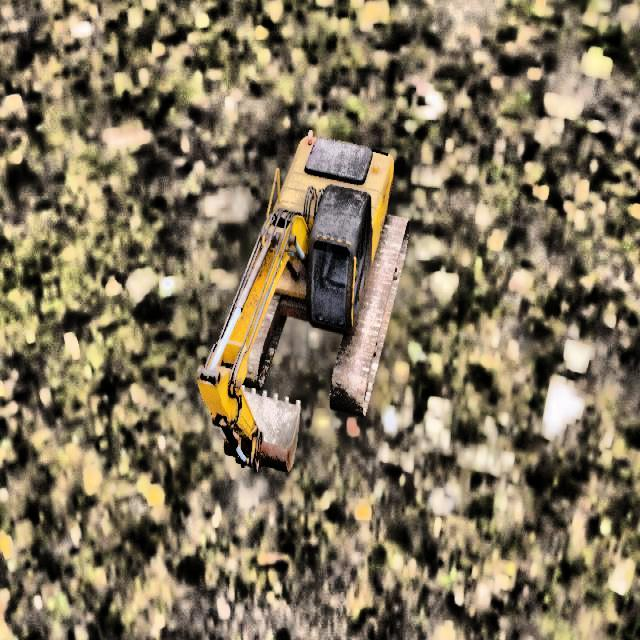excavator: (196, 128, 409, 472)
